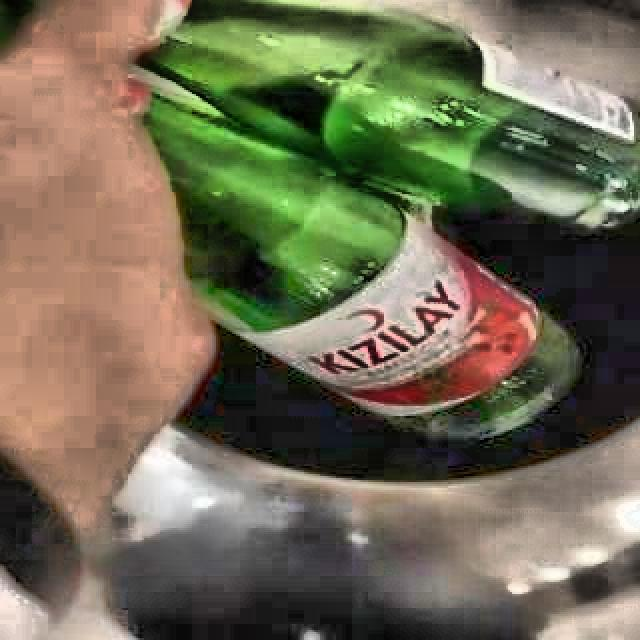glass: (141, 0, 640, 436)
